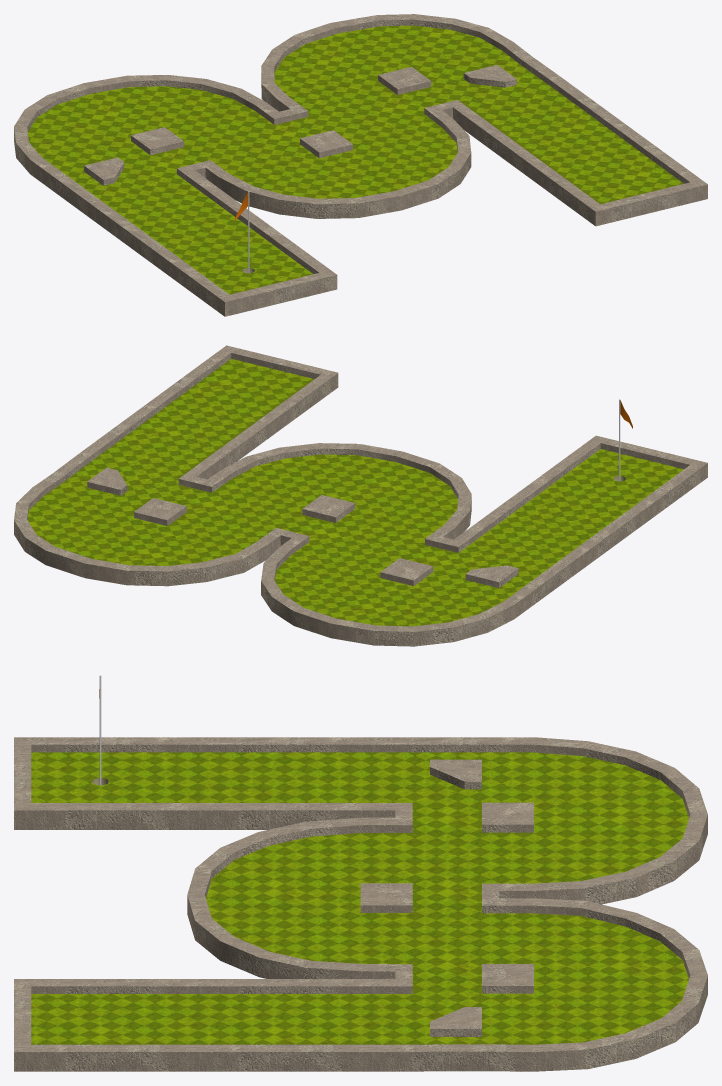
Rendered from course4_hole4.fbx.
3 views of the same model, one above another, from view 1: azimuth 30°, elevation 25°; view 2: azimuth 150°, elevation 25°; view 3: azimuth 270°, elevation 25° (orthographic). The views are drawn at different scales.
Visible parts, largest first — view 1: course4_hole4_ground, course4_hole4_walls; view 2: course4_hole4_ground, course4_hole4_walls; view 3: course4_hole4_ground, course4_hole4_walls.
Boxes of the visible parts, left/top/right/bottom form: course4_hole4_ground: left=27, top=25, right=683, bottom=294; course4_hole4_walls: left=14, top=14, right=707, bottom=316; course4_hole4_ground: left=27, top=358, right=683, bottom=626; course4_hole4_walls: left=14, top=345, right=707, bottom=646; course4_hole4_ground: left=31, top=752, right=688, bottom=1044; course4_hole4_walls: left=14, top=737, right=707, bottom=1071.
Bounding box in the file's own units: 430 × 75.04 × 401.
